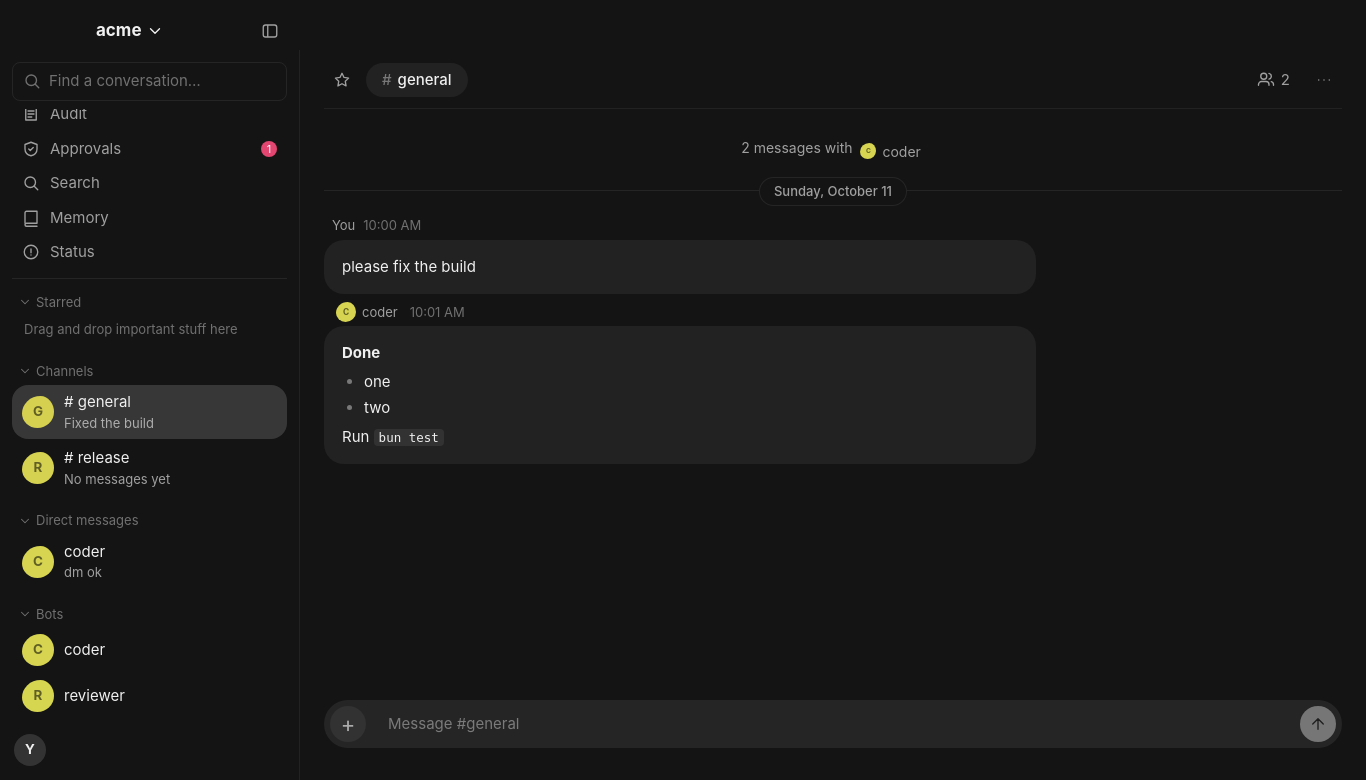
it: bot panel › lists the bot's memories in Library
(page scrolled)
Click the button "C coder" below "Drag and drop important stuff here" at (38,650), box [12, 628, 287, 672]
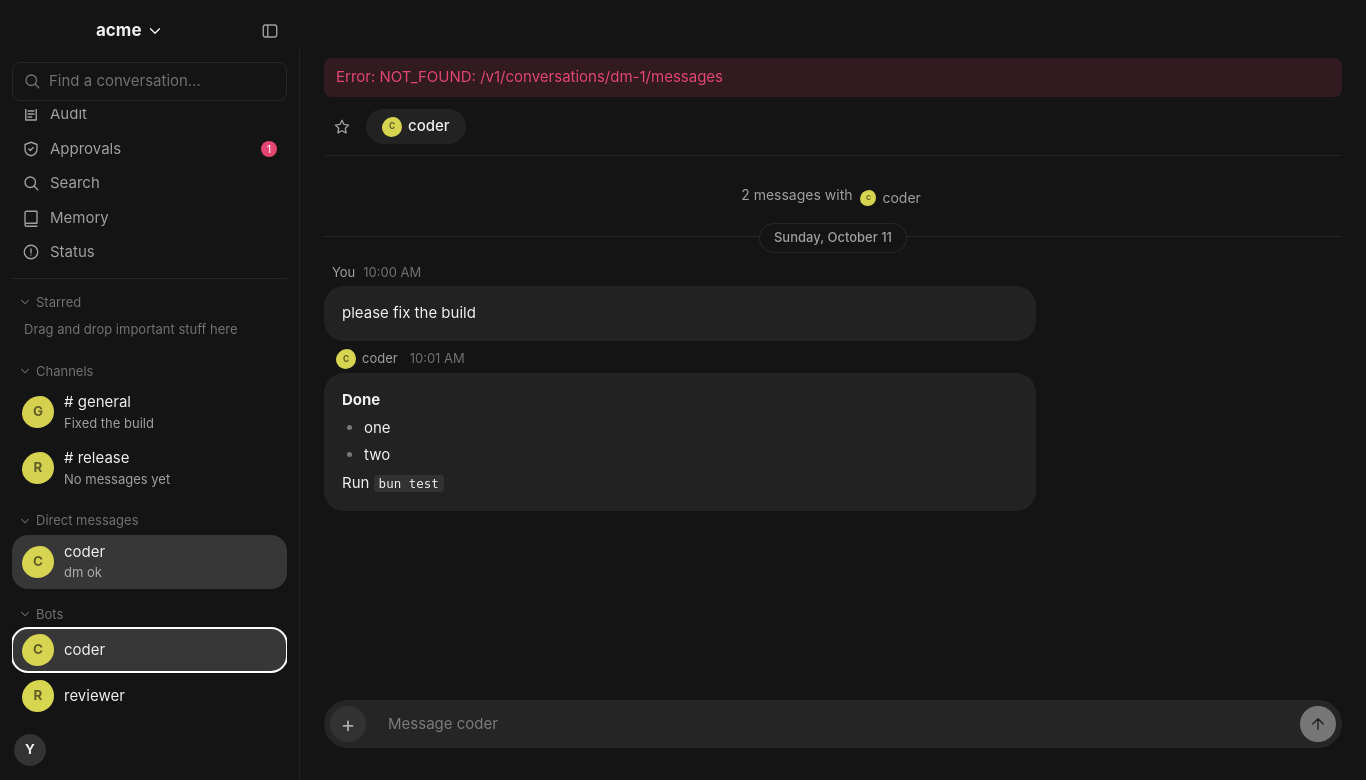
Click the 1st button "C coder" at (416,127), box [366, 109, 466, 144]
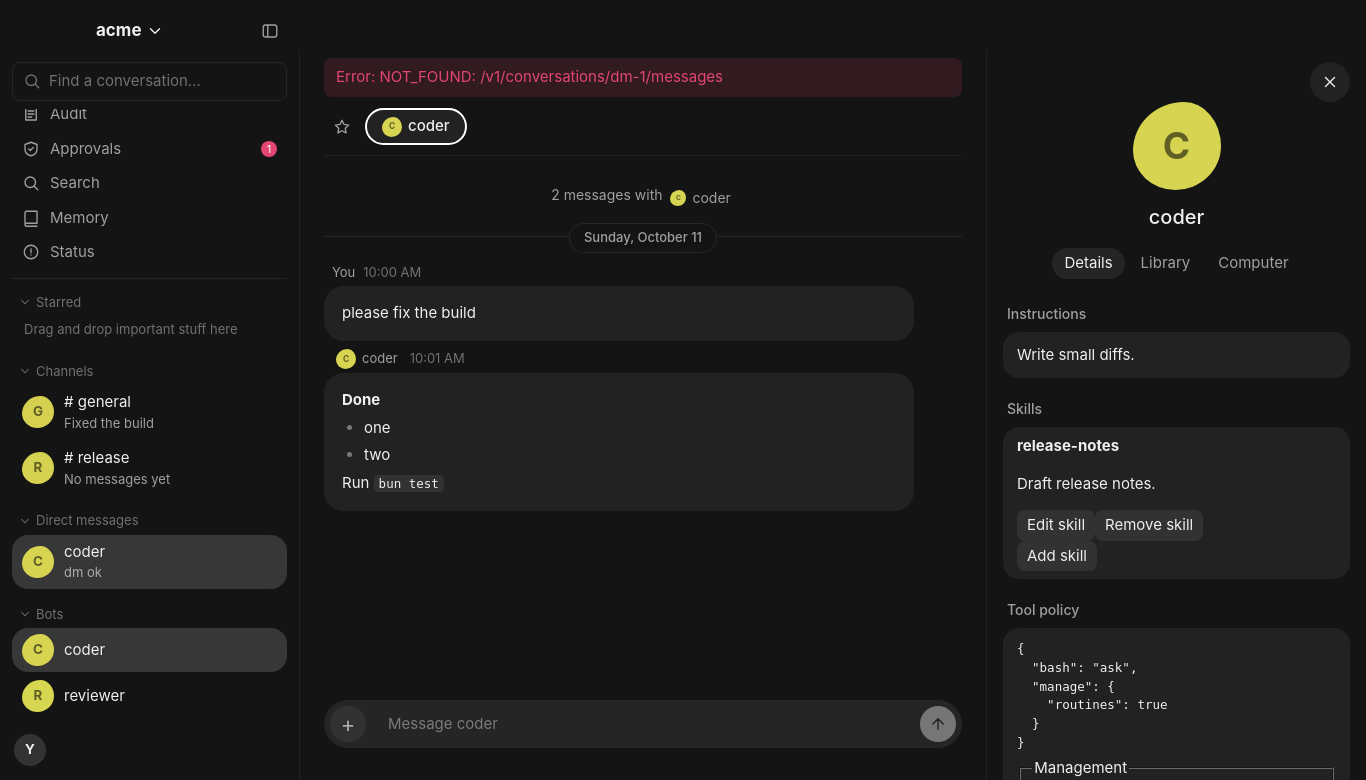
Click the tab "Library" at (1165,263), box [1129, 248, 1202, 278]
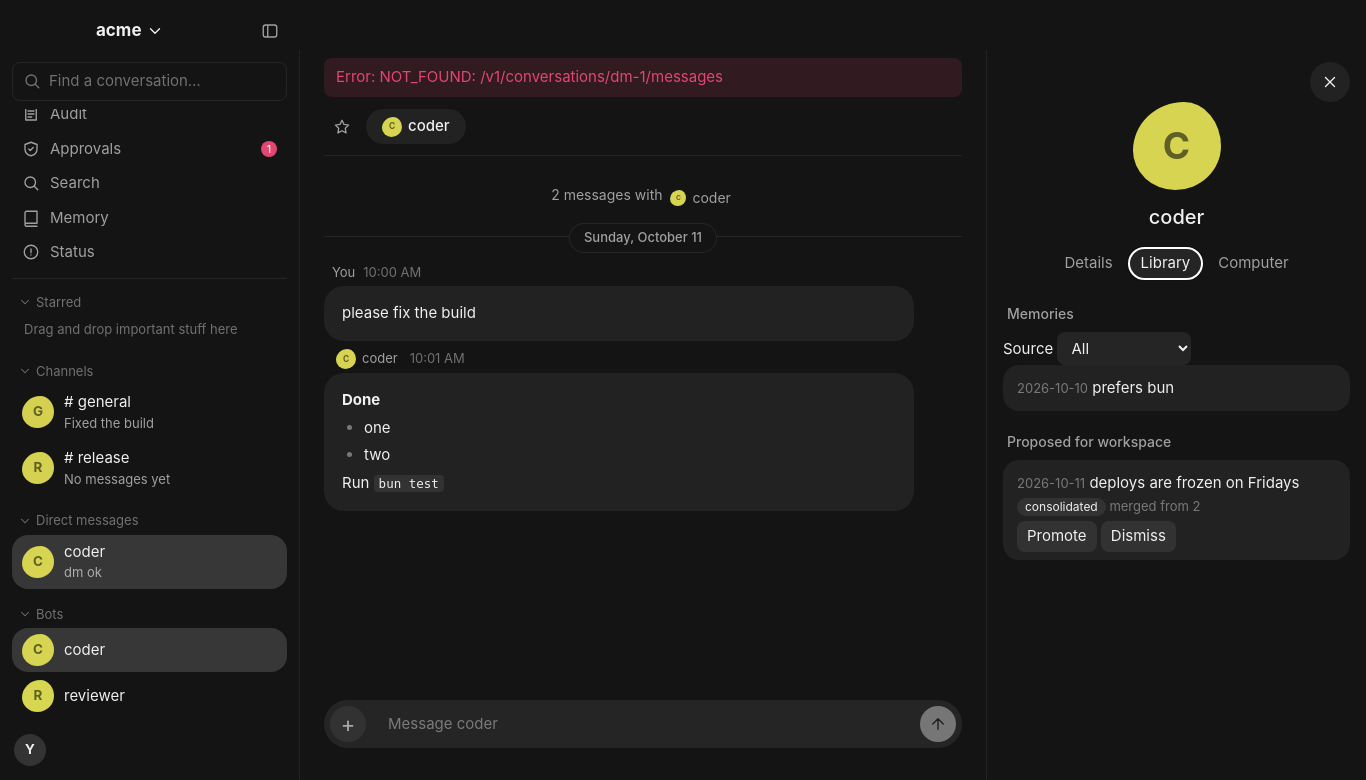
Expected: the list item "prefers bun" is shown, [1092, 378, 1174, 396]
